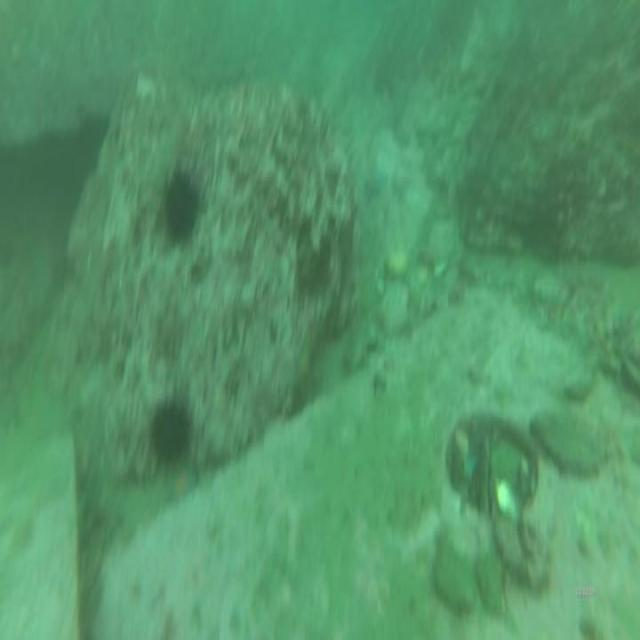echinus: (142, 387, 196, 469), (158, 163, 207, 248)
starfish: (362, 163, 388, 202)
